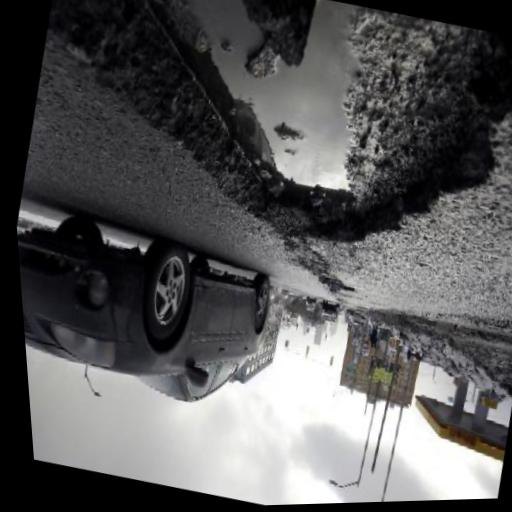pothole: (8, 0, 512, 309)
